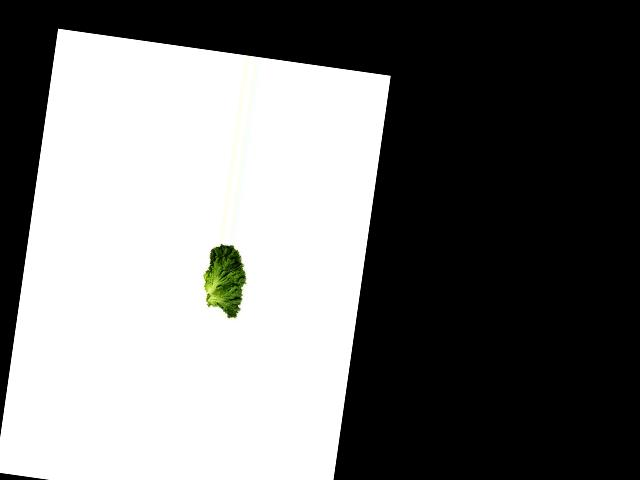lettuce: (195, 241, 255, 319)
